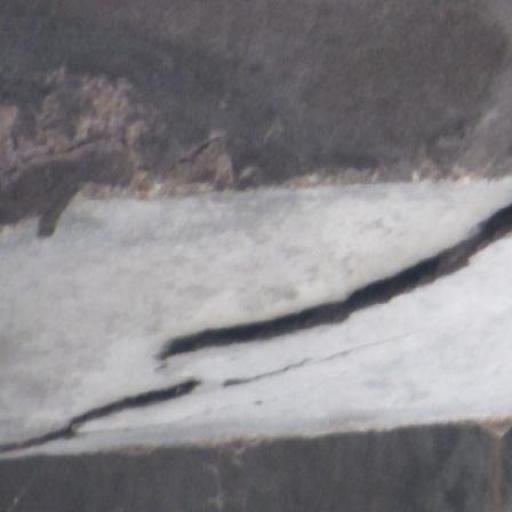spalling: (1, 197, 509, 464)
